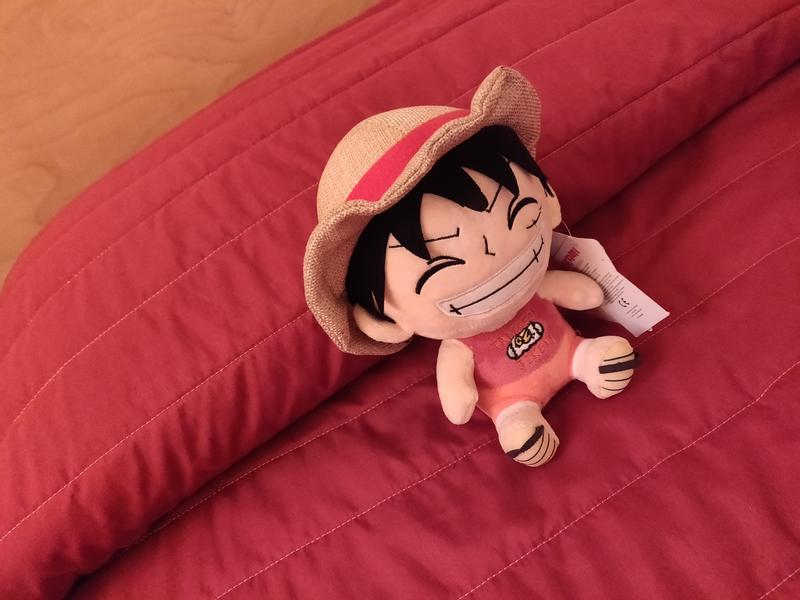rufy: (295, 66, 689, 483)
